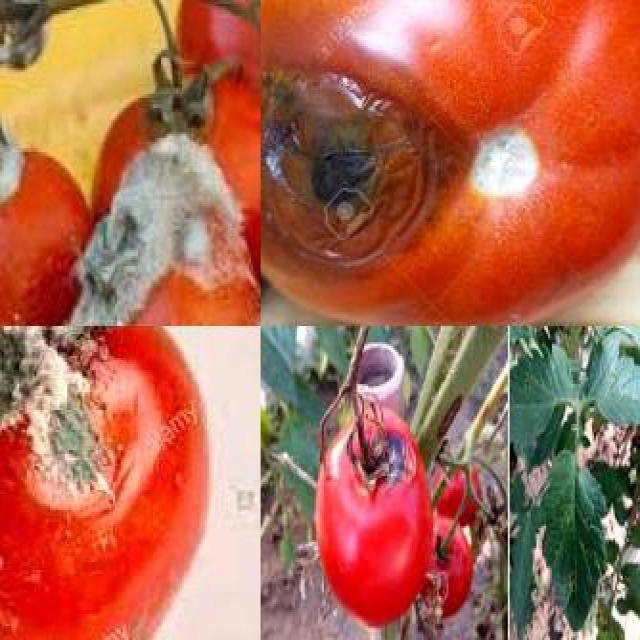Rotten_Tomato: (260, 0, 640, 326), (0, 326, 220, 640), (67, 70, 261, 326), (314, 402, 431, 628), (52, 202, 260, 326), (0, 138, 102, 326)
